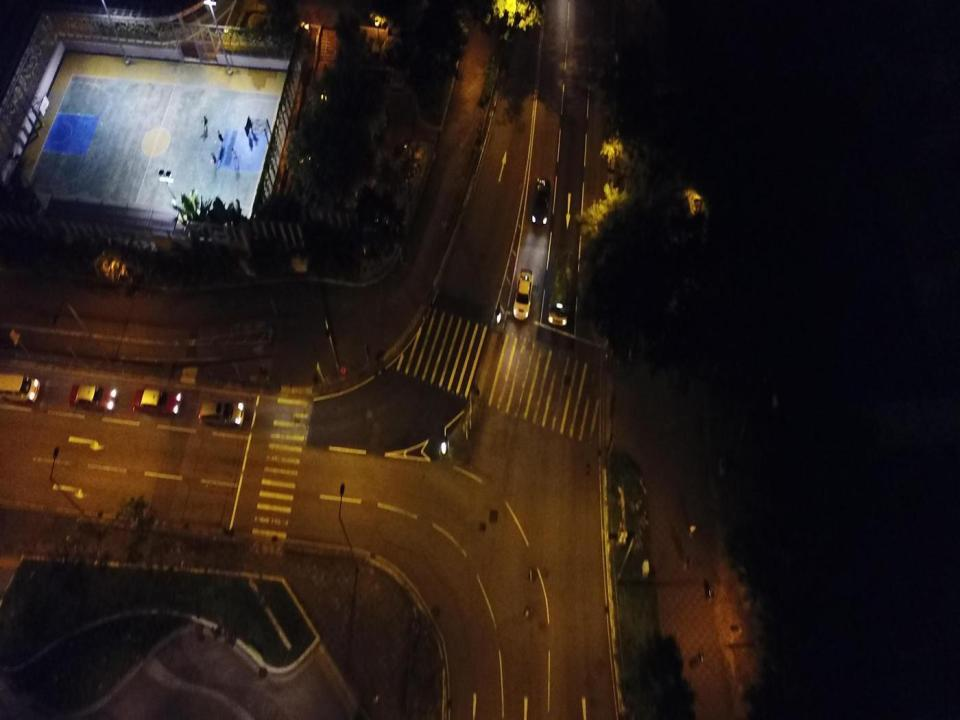bus: (548, 248, 575, 327)
car: (132, 387, 182, 416), (69, 384, 117, 412), (199, 399, 245, 426), (512, 268, 534, 320), (532, 175, 552, 226)
truck: (0, 372, 40, 403)
